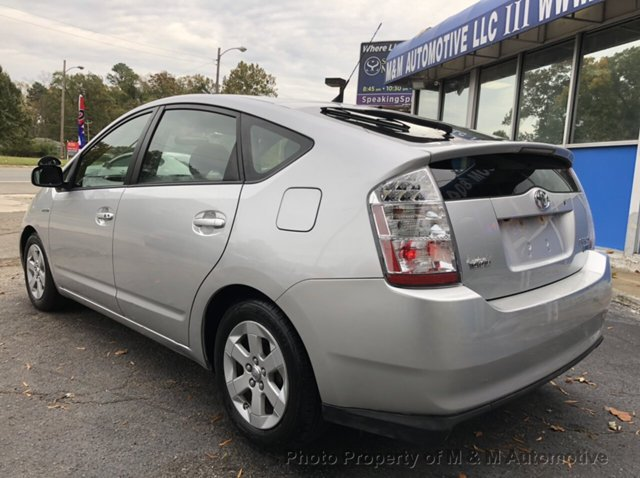Toyota Prius: (16, 90, 614, 462)
